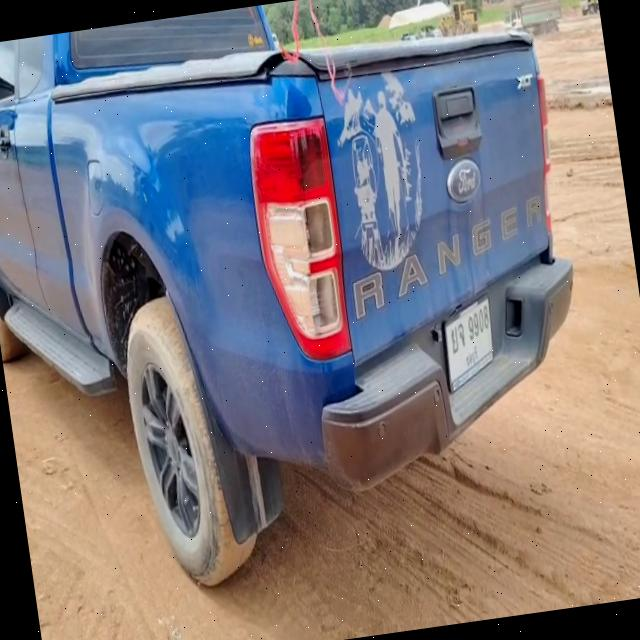Digit: (466, 303, 492, 344)
Licenseplate: (444, 292, 494, 396)
Provincename: (462, 345, 480, 371)
Thaichar: (449, 320, 468, 356)
